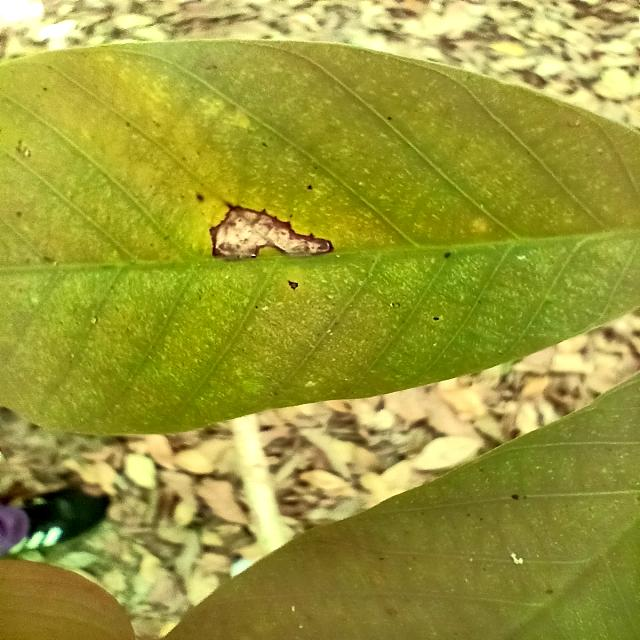Colletotrichum: (288, 279, 300, 290)
Leaf-Blight: (216, 206, 327, 257)
